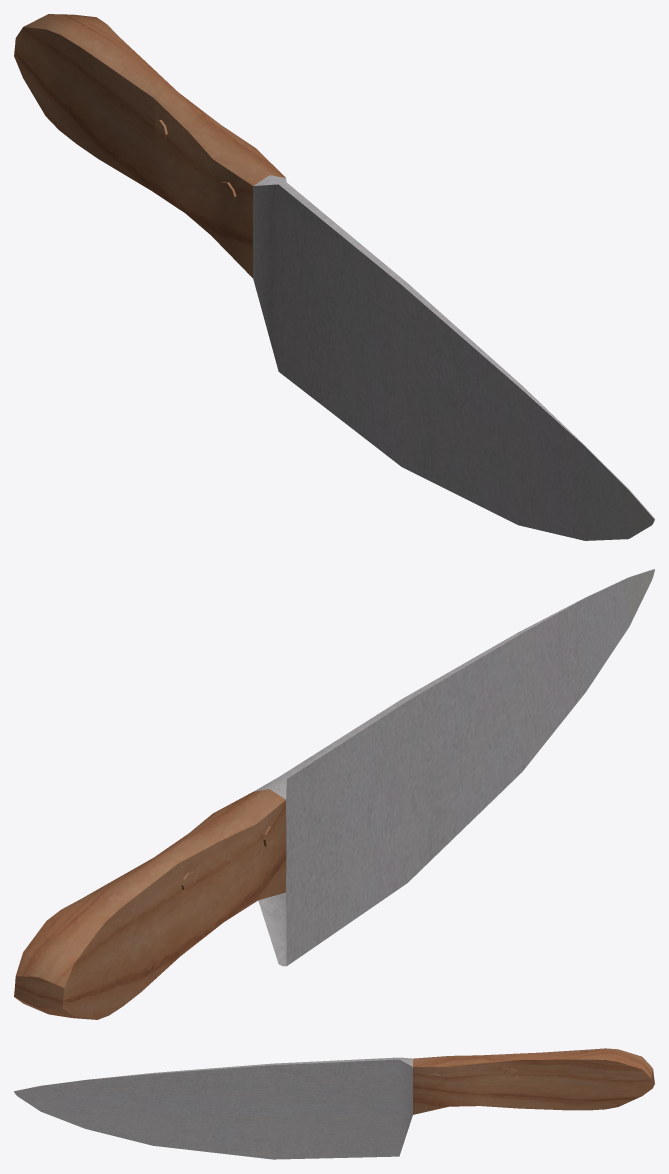
Rendered from Groot mes.fbx.
3 views of the same model, one above another, from view 1: azimuth 30°, elevation 25°; view 2: azimuth 150°, elevation 25°; view 3: azimuth 270°, elevation 25° (orthographic). The views are drawn at different scales.
Parts seen in each view (by area): view 1: Groot_mes; view 2: Groot_mes; view 3: Groot_mes.
Boxes of the visible parts, box(x1,y1,x2,y2) form: Groot_mes: box(14, 14, 654, 540); Groot_mes: box(14, 569, 654, 1019); Groot_mes: box(14, 1048, 654, 1159).
Bounding box in the file's own units: 1.17 × 4.46 × 24.01.
Materials: 1 (1 with a texture image).
